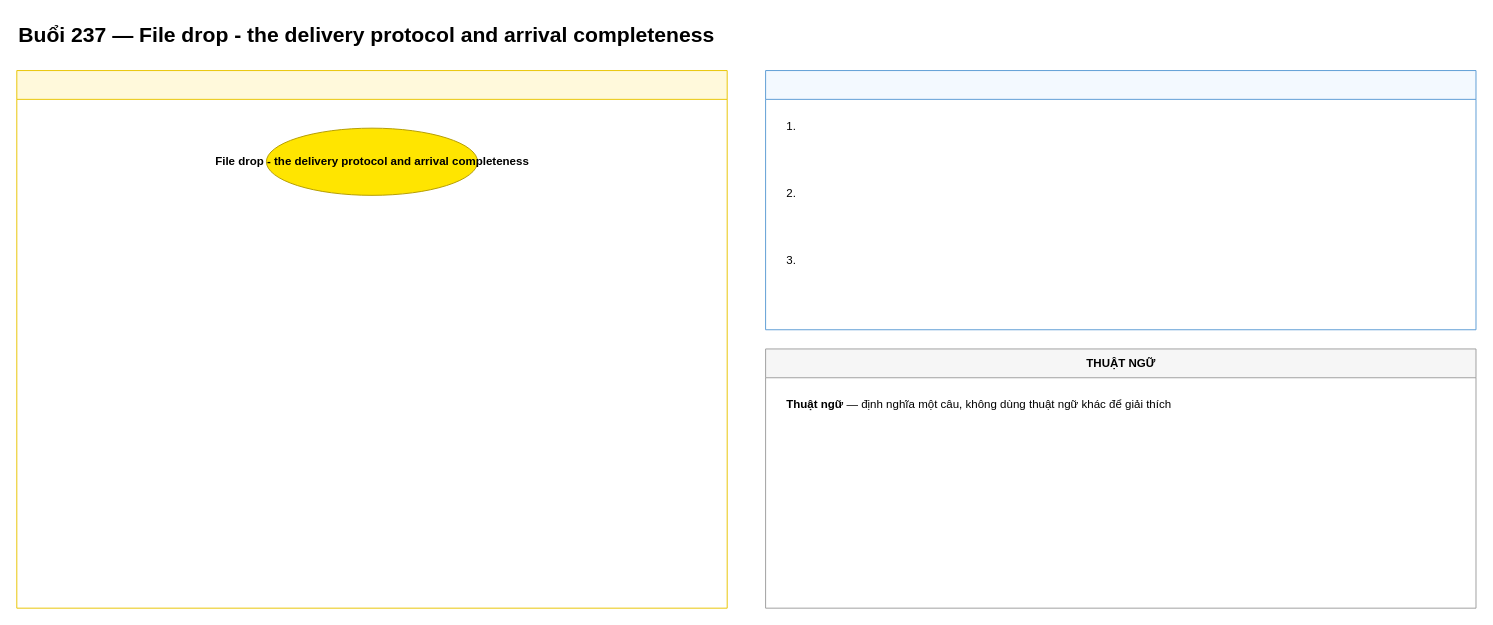
This 1493x625 diagram has some shape labels left out. The box of each missing label's shape, as (x1, y1, x2, y2) in pixels:
KEY TAKEAWAY — ba điều phải nhớ: (765, 70, 1476, 330)
MINDMAP: (16, 70, 727, 608)
